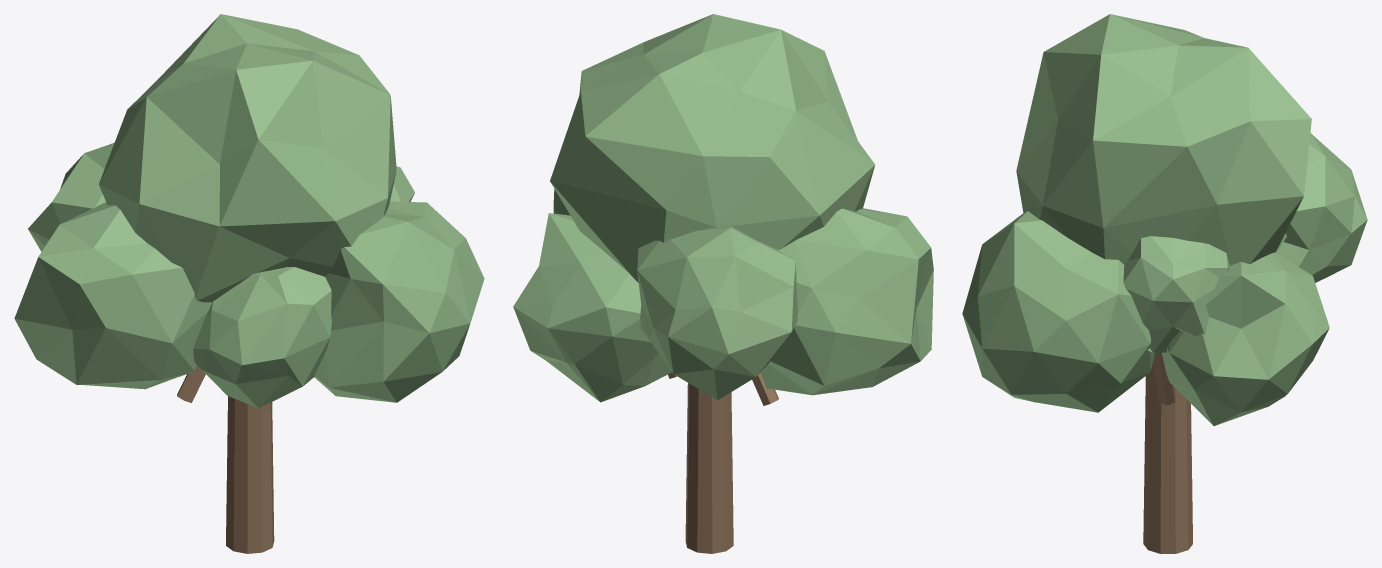
File: sculpted_tree_b.glb
3 views of the same model, side by side, from view 1: azimuth 30°, elevation 25°; view 2: azimuth 150°, elevation 25°; view 3: azimuth 270°, elevation 25° (orthographic).
Parts seen in each view (by area): view 1: SculptedTree_7; view 2: SculptedTree_7; view 3: SculptedTree_7.
Part boxes in pixels (x1,y1,x2,y2): SculptedTree_7: (14,14,484,553); SculptedTree_7: (513,14,933,553); SculptedTree_7: (962,14,1367,553).
Bounding box in the file's own units: 2.89 × 3.61 × 2.6.
